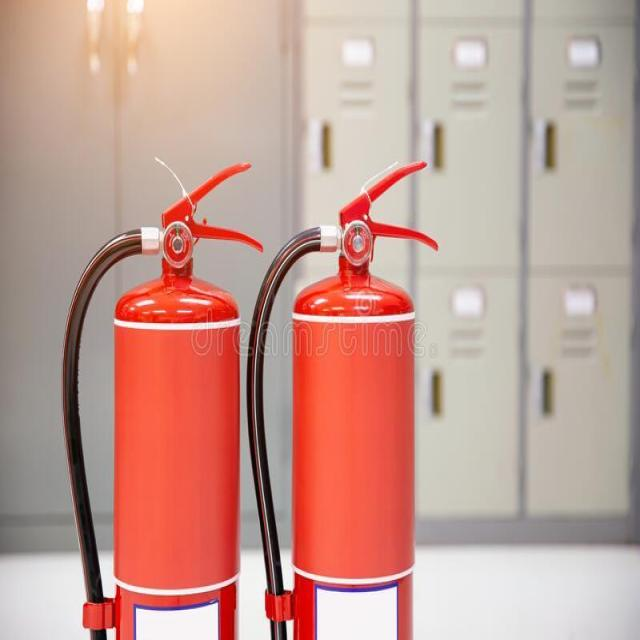fire_extinguisher: (57, 157, 267, 639), (243, 154, 441, 638)
